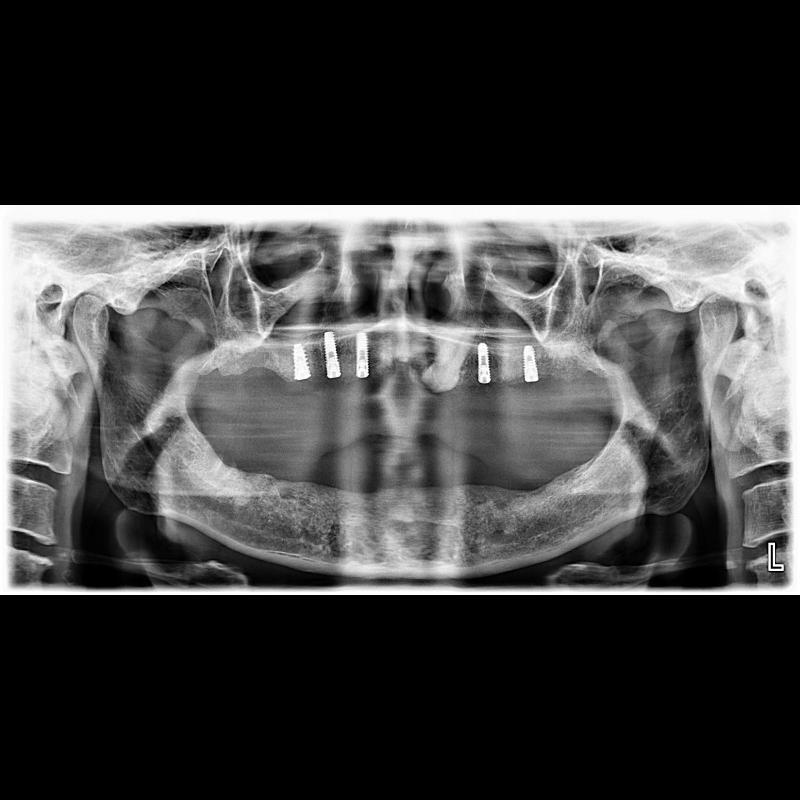osstem: (322, 330, 344, 380), (520, 345, 542, 383), (354, 332, 372, 378), (474, 342, 492, 386)
